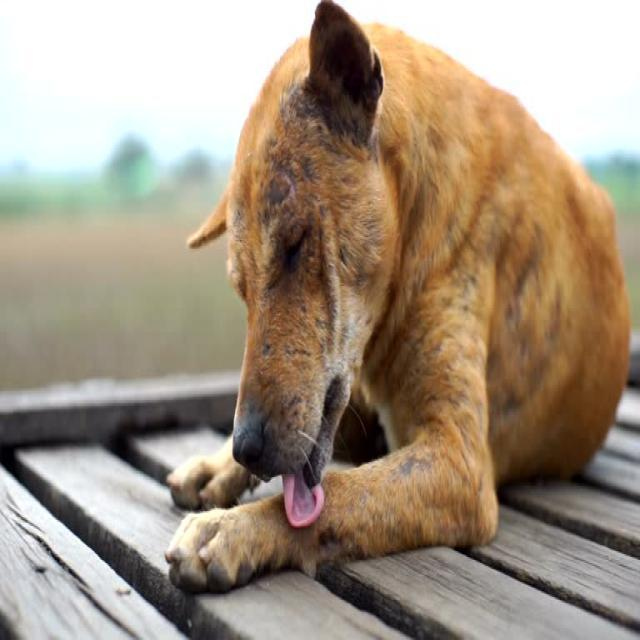mange: (252, 88, 350, 236)
